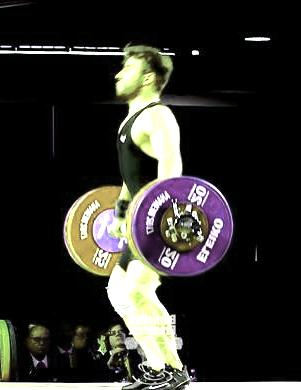Barbell: (187, 218, 201, 234)
